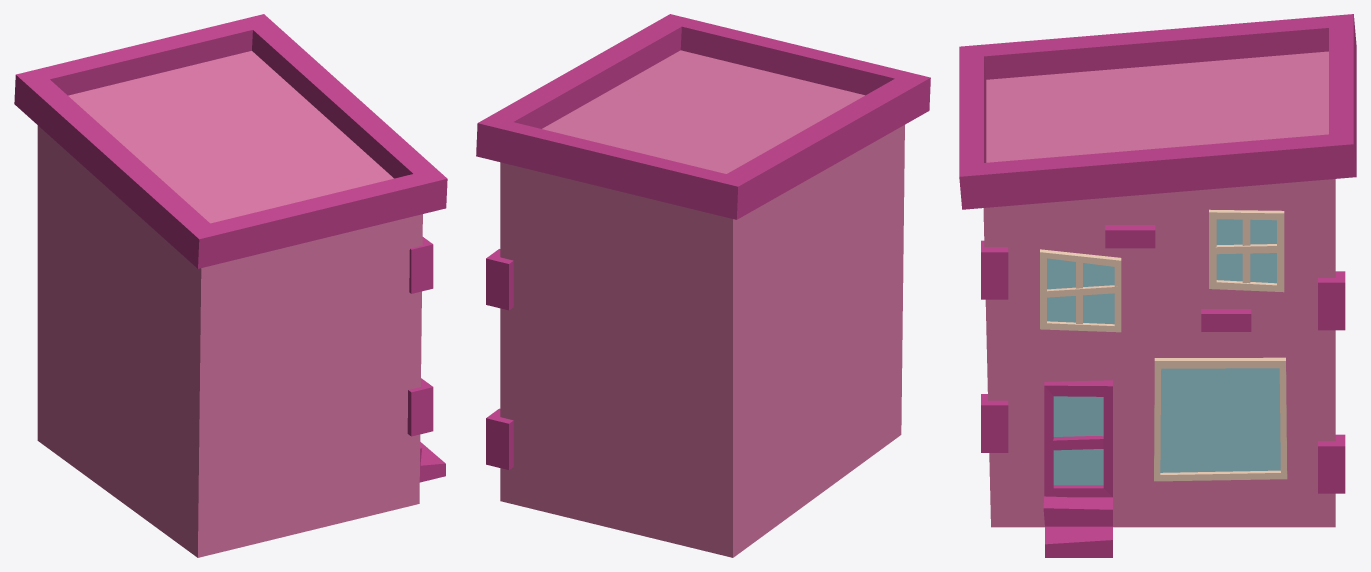
File: Pink_house_stairs.fbx
The picture shows the model from 3 angles, left to right: view 1: azimuth 30°, elevation 25°; view 2: azimuth 150°, elevation 25°; view 3: azimuth 270°, elevation 25°; orthographic projection. The views are drawn at different scales.
Visible parts, largest first — view 1: Pink house stairs; view 2: Pink house stairs; view 3: Pink house stairs.
Part boxes in pixels (left/top/right/bottom): Pink house stairs: left=14, top=14, right=447, bottom=557; Pink house stairs: left=476, top=14, right=930, bottom=557; Pink house stairs: left=959, top=14, right=1356, bottom=557.
Size of the model in its own units: 1314 by 1606 by 1469.
